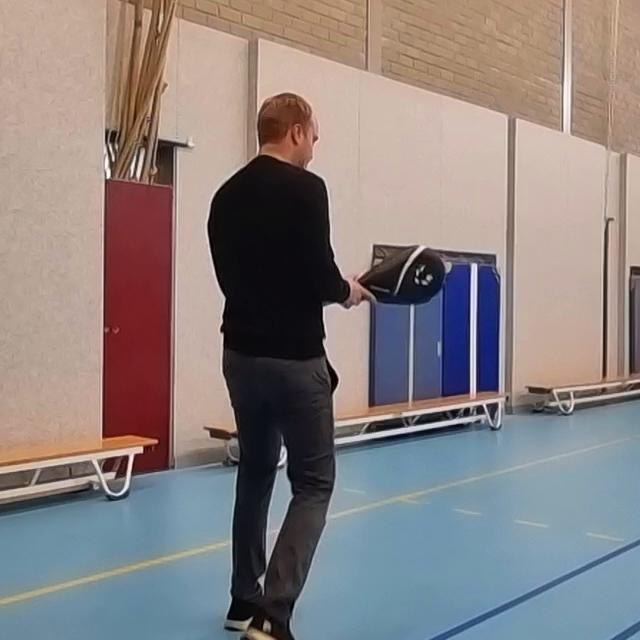paddle: (340, 242, 450, 306)
